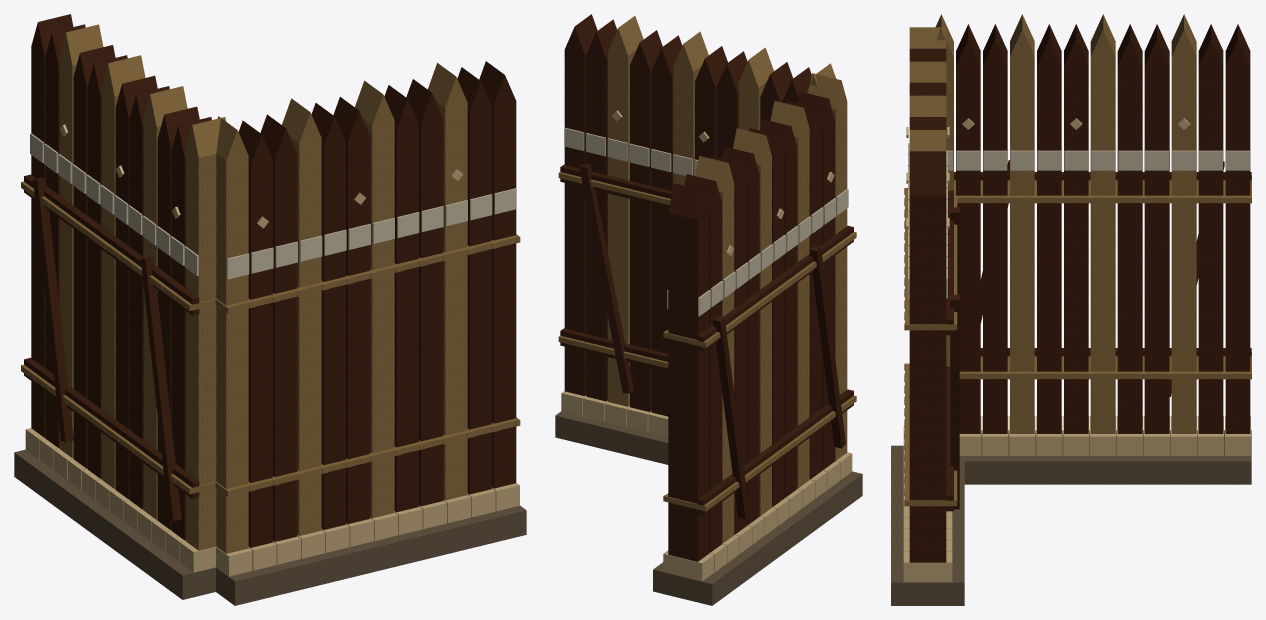
Rendered from Berber_Palisade_Age4_corner_90.fbx.
3 views of the same model, side by side, from view 1: azimuth 30°, elevation 25°; view 2: azimuth 150°, elevation 25°; view 3: azimuth 270°, elevation 25° (orthographic). The views are drawn at different scales.
Parts seen in each view (by area): view 1: palm_split_post.067, palm_split_post.070, palm_split_post.063, palm_split_post.065, palm_split_post.060, earth_seat.009, palm_split_post.069, palm_split_post.072, palm_split_post.066, post_earth_socket.009, neutral_owner_band.009, back_diagonal_brace.009 (+4 smaller); view 2: palm_split_post.070, palm_split_post.067, palm_split_post.065, palm_split_post.063, palm_split_post.072, earth_seat.009, palm_split_post.069, back_diagonal_brace.009, post_earth_socket.009, palm_split_post.066, continuous_rear_tie.009, neutral_owner_band.009 (+3 smaller); view 3: palm_split_post.070, palm_split_post.067, palm_split_post.065, palm_split_post.063, earth_seat.009, palm_split_post.069, palm_split_post.072, palm_split_post.066, post_earth_socket.009, neutral_owner_band.009, front_lashing.009, lashing_side.009 (+4 smaller).
Part boxes in pixels (x1=…): palm_split_post.067: x1=73, y1=45, x2=443, y2=529; palm_split_post.070: x1=31, y1=14, x2=516, y2=512; palm_split_post.063: x1=115, y1=75, x2=370, y2=547; palm_split_post.065: x1=45, y1=24, x2=491, y2=541; palm_split_post.060: x1=186, y1=116, x2=248, y2=553; earth_seat.009: x1=14, y1=449, x2=526, y2=605; palm_split_post.069: x1=101, y1=55, x2=394, y2=518; palm_split_post.072: x1=59, y1=24, x2=467, y2=500; palm_split_post.066: x1=143, y1=86, x2=321, y2=535; post_earth_socket.009: x1=25, y1=428, x2=519, y2=576; neutral_owner_band.009: x1=30, y1=133, x2=516, y2=279; back_diagonal_brace.009: x1=33, y1=177, x2=181, y2=521; palm_split_post.070: x1=564, y1=14, x2=759, y2=561; palm_split_post.067: x1=630, y1=30, x2=797, y2=534; palm_split_post.065: x1=586, y1=19, x2=822, y2=552; palm_split_post.063: x1=695, y1=46, x2=834, y2=506; palm_split_post.072: x1=608, y1=16, x2=734, y2=543; earth_seat.009: x1=555, y1=411, x2=862, y2=605; palm_split_post.069: x1=673, y1=31, x2=771, y2=515; back_diagonal_brace.009: x1=579, y1=164, x2=845, y2=518; post_earth_socket.009: x1=561, y1=391, x2=852, y2=581; palm_split_post.066: x1=738, y1=47, x2=809, y2=488; continuous_rear_tie.009: x1=560, y1=164, x2=853, y2=515; neutral_owner_band.009: x1=564, y1=127, x2=848, y2=316; palm_split_post.070: x1=909, y1=24, x2=1250, y2=562; palm_split_post.067: x1=909, y1=24, x2=1169, y2=433; palm_split_post.065: x1=909, y1=24, x2=1223, y2=433; palm_split_post.063: x1=909, y1=24, x2=1088, y2=433; earth_seat.009: x1=891, y1=430, x2=1251, y2=605; palm_split_post.069: x1=909, y1=14, x2=1115, y2=433; palm_split_post.072: x1=909, y1=14, x2=1196, y2=433; palm_split_post.066: x1=909, y1=14, x2=1034, y2=433; post_earth_socket.009: x1=903, y1=416, x2=1250, y2=582; neutral_owner_band.009: x1=908, y1=143, x2=1249, y2=298; front_lashing.009: x1=905, y1=188, x2=1250, y2=499; lashing_side.009: x1=904, y1=176, x2=1251, y2=506.
Size of the model in its own units: 334 by 458 by 334.
5 materials, 5 textured.
